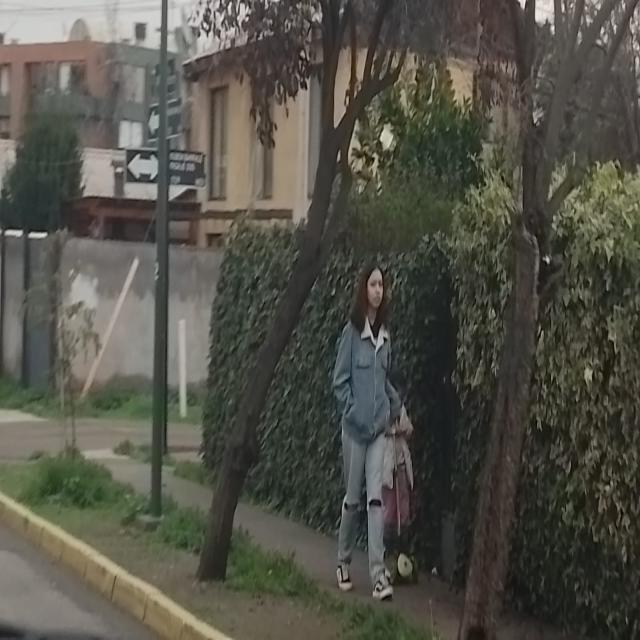person: (329, 258, 404, 602)
